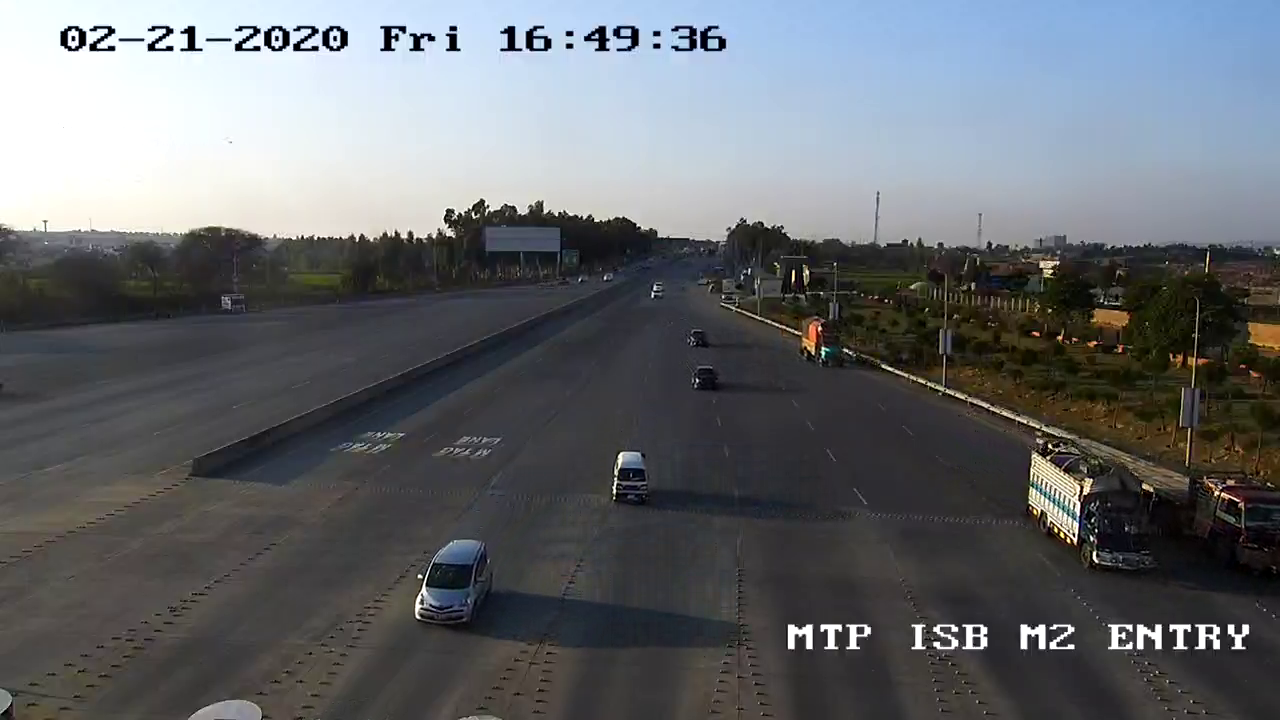f1: (395, 532, 499, 635), (603, 443, 657, 515)
f5: (1009, 429, 1174, 586)
